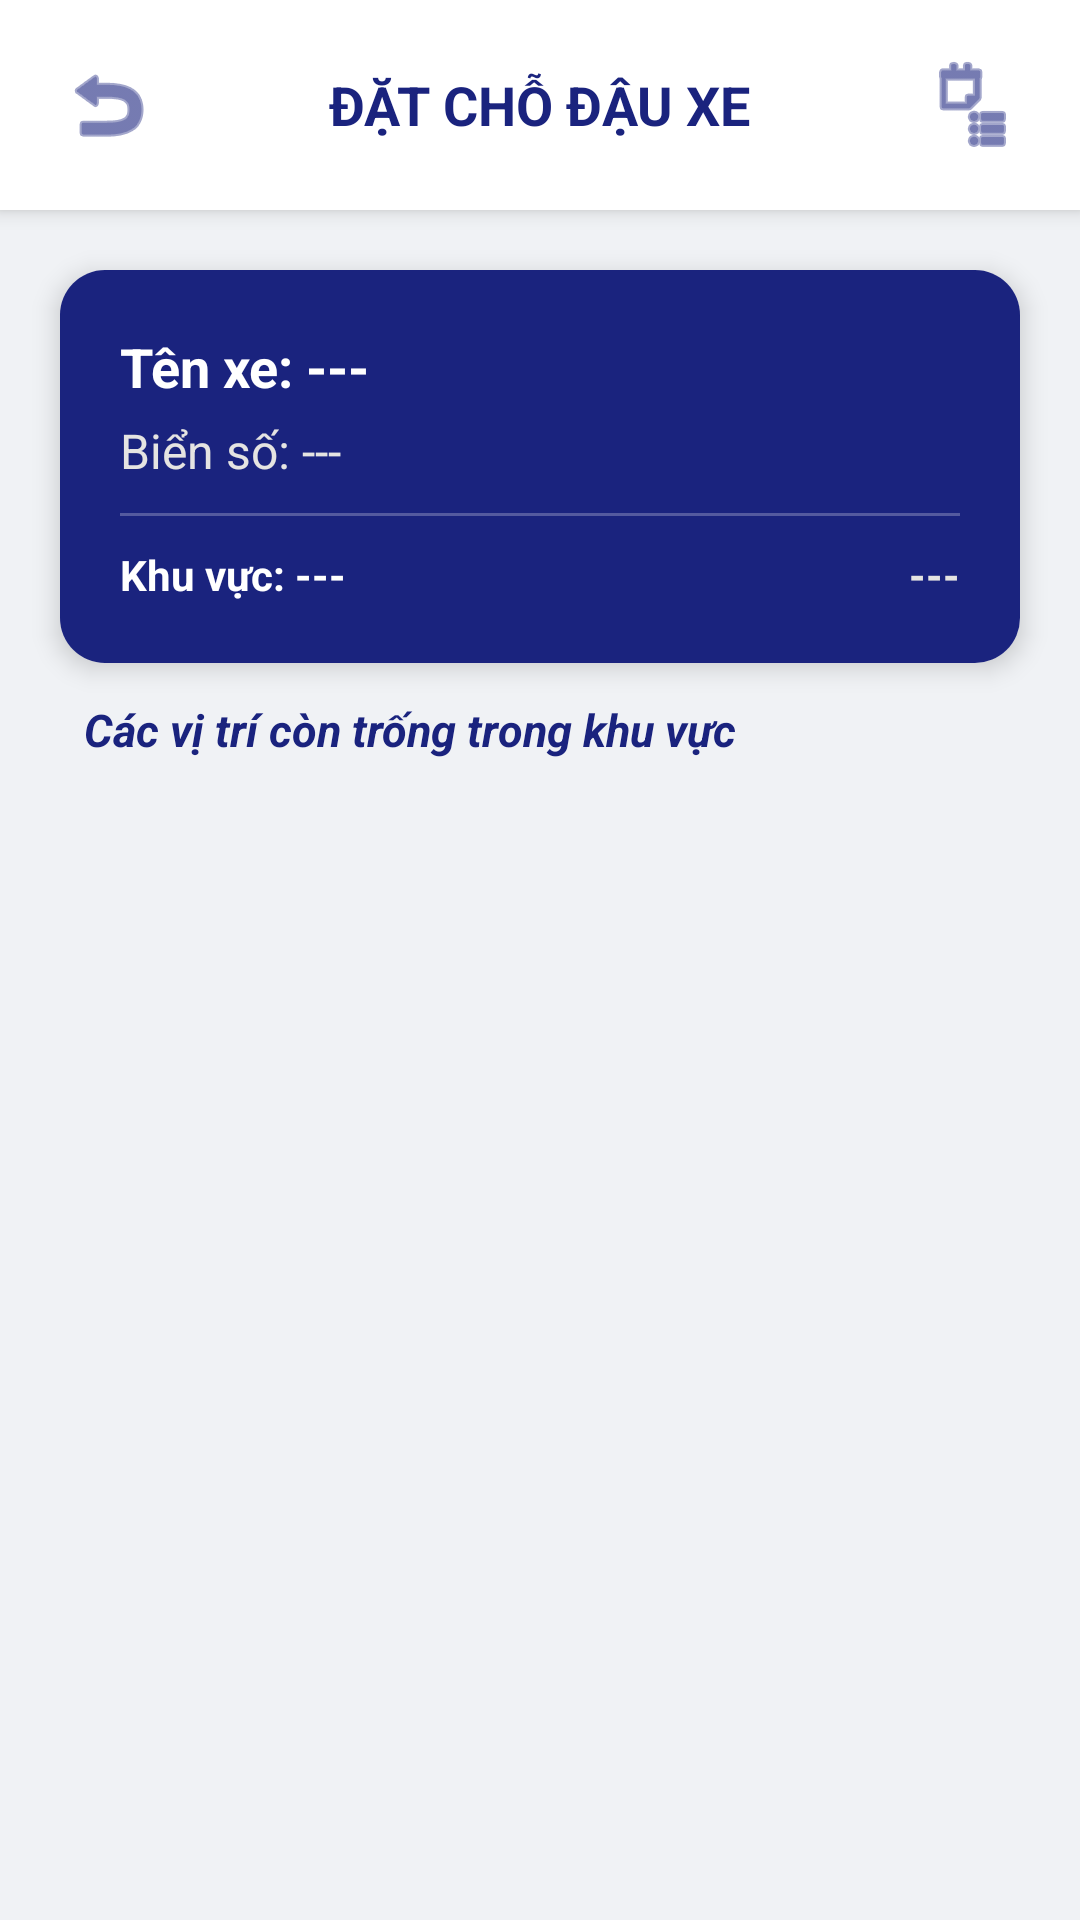

Named icons in this screenshot (1080 × 1920) and their centers, [x,y]:
agenda: [972,104]
revert: [109,105]
